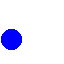circle: (1, 29, 21, 49)
